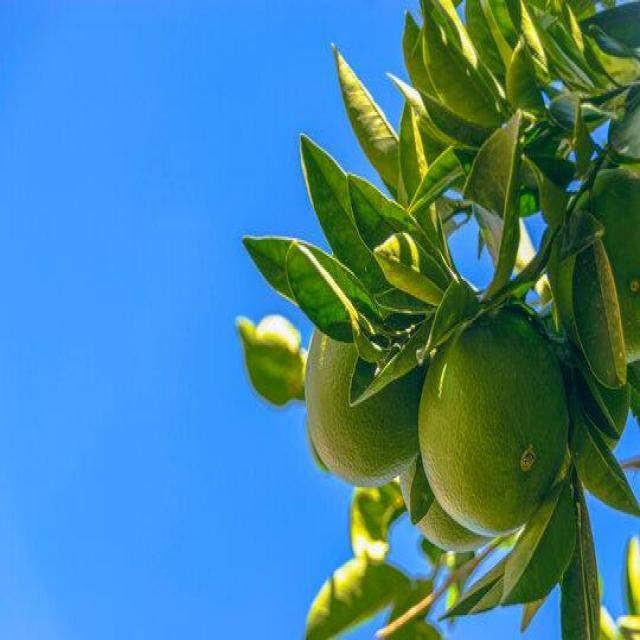Jeruk Belum Matang: (421, 311, 574, 539), (304, 318, 422, 484), (550, 170, 640, 368), (397, 457, 495, 551)
